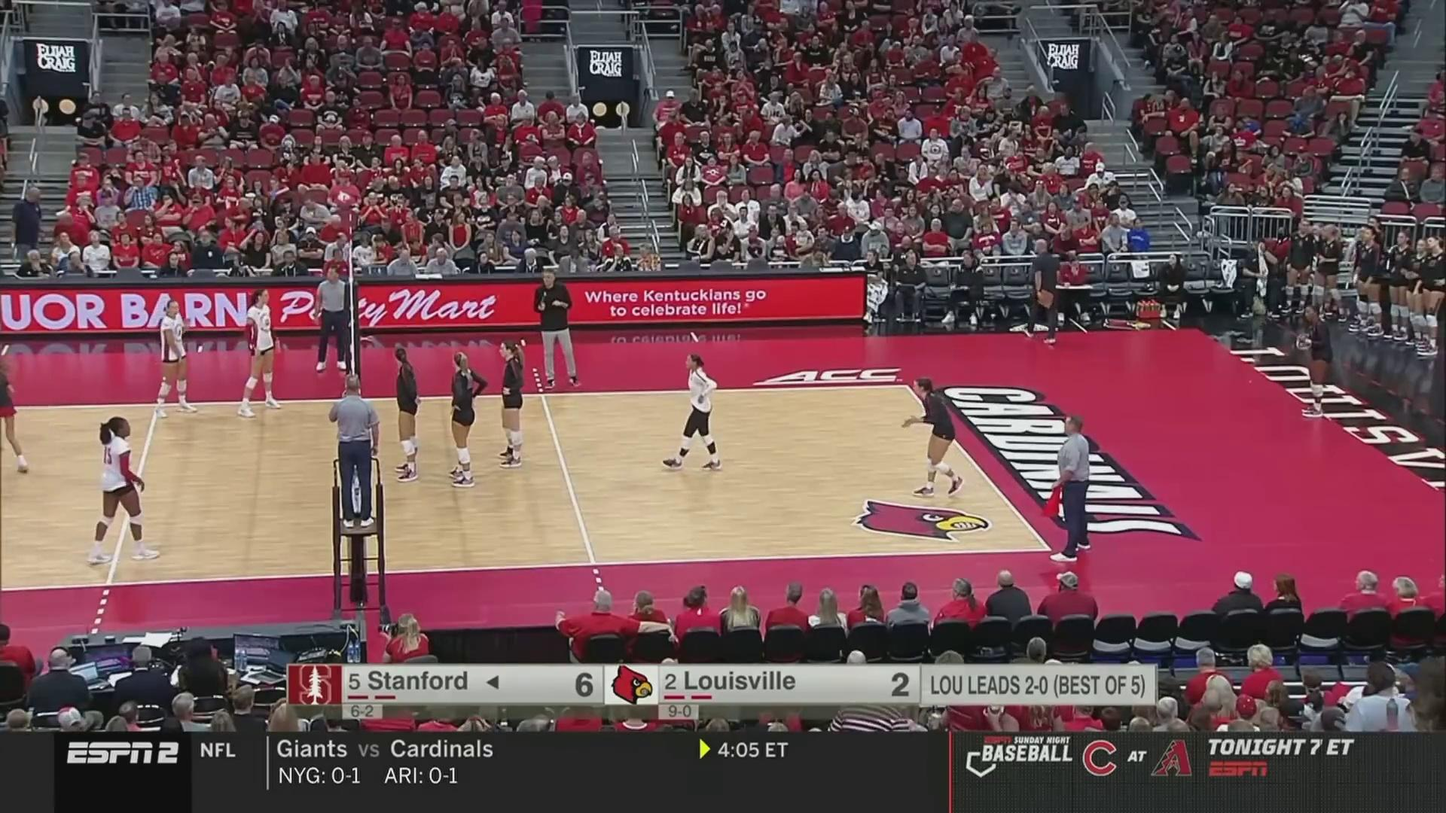player: (87, 418, 158, 563), (661, 355, 723, 466), (911, 377, 965, 495), (446, 349, 487, 486), (153, 298, 194, 418), (241, 288, 279, 417), (495, 337, 527, 465), (393, 346, 423, 481), (0, 346, 27, 476), (1300, 305, 1331, 415)
refree: (333, 373, 379, 528), (1052, 414, 1093, 560), (316, 268, 351, 370)
